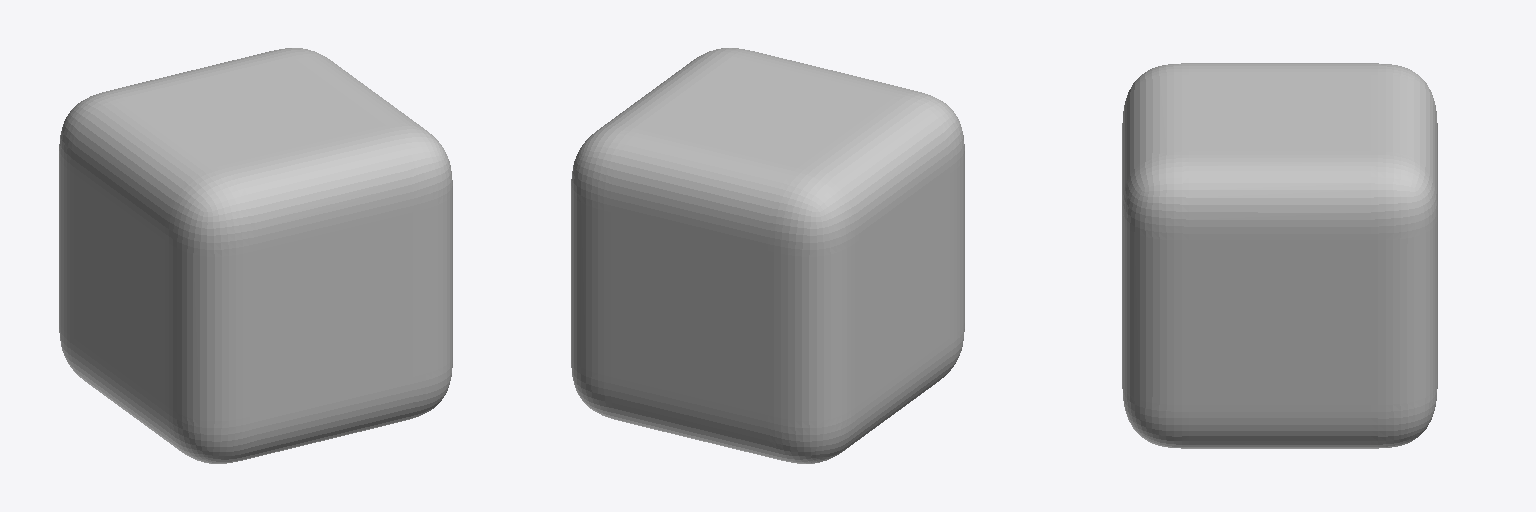
The model's file is beat.obj.
3 views of the same model, side by side, from view 1: azimuth 30°, elevation 25°; view 2: azimuth 150°, elevation 25°; view 3: azimuth 270°, elevation 25° (orthographic).
Visible parts, largest first — view 1: Cube; view 2: Cube; view 3: Cube.
Boxes of the visible parts, <box> form: Cube: <box>59,48,452,463</box>; Cube: <box>571,48,964,463</box>; Cube: <box>1122,63,1437,448</box>.
Bounding box in the file's own units: 0.2993 × 0.2993 × 0.2993.